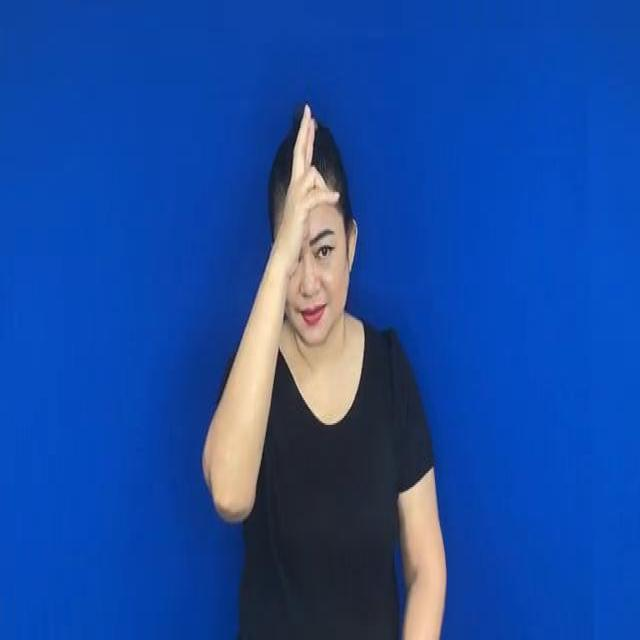chicken: (277, 93, 347, 262)
